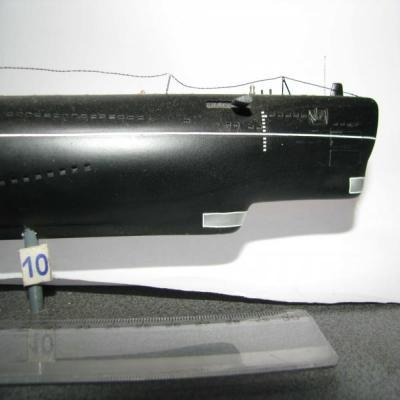other: (0, 76, 400, 400)
